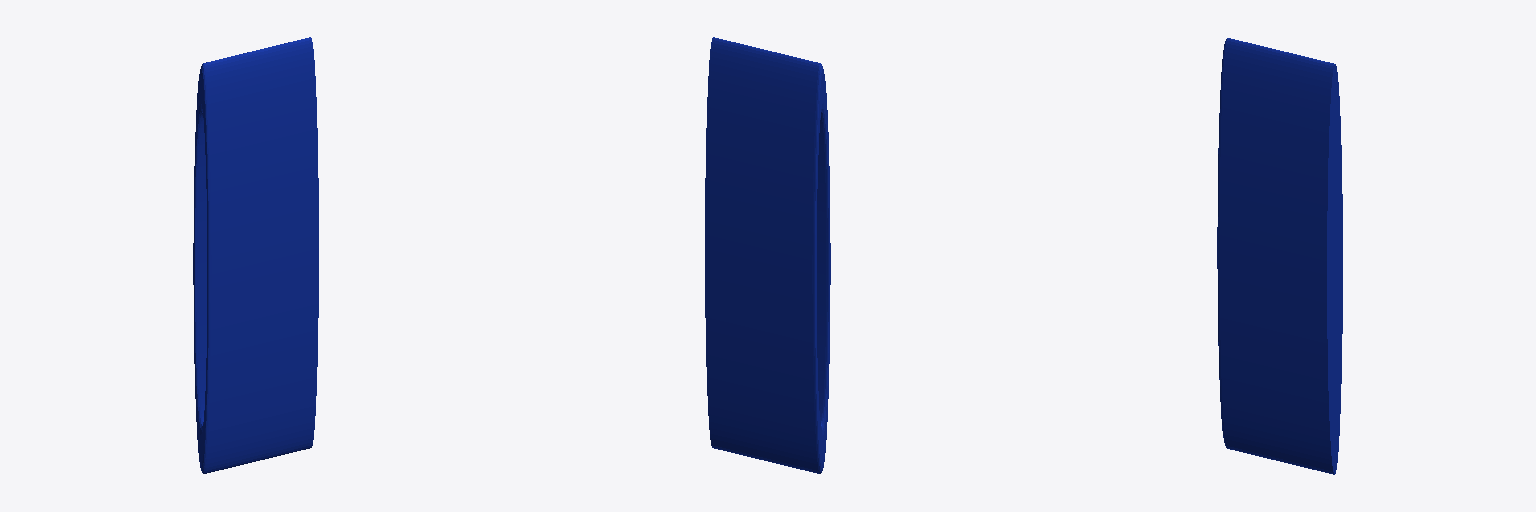
Rendered from patokankamera.obj.
3 renders of one model, left to right at view 1: azimuth 30°, elevation 25°; view 2: azimuth 150°, elevation 25°; view 3: azimuth 330°, elevation 25°, orthographic.
Parts seen in each view (by area): view 1: Cylinder.014_Cylinder.007; view 2: Cylinder.014_Cylinder.007; view 3: Cylinder.014_Cylinder.007.
Part boxes in pixels (x1,y1,x2,y2): Cylinder.014_Cylinder.007: (193, 37, 318, 473); Cylinder.014_Cylinder.007: (705, 37, 830, 473); Cylinder.014_Cylinder.007: (1217, 38, 1342, 474).
Bounding box in the file's own units: 0.6165 × 2.2 × 0.154.